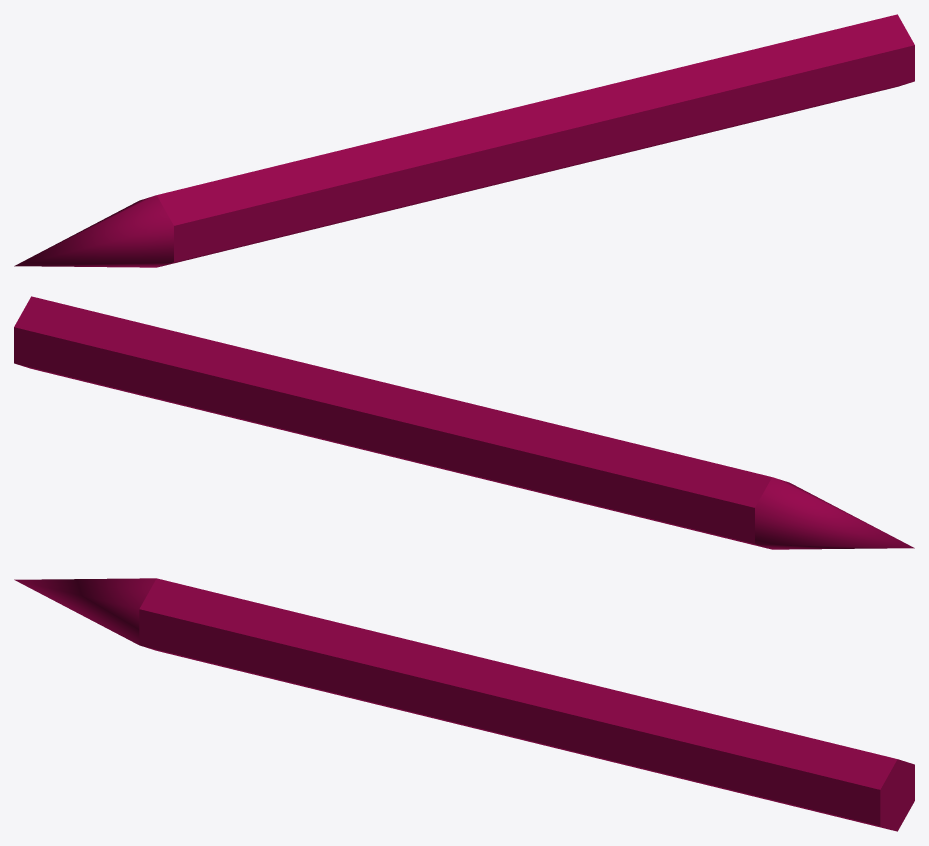
Rendered from Pen_08.fbx.
3 renders of one model, top to bottom at view 1: azimuth 30°, elevation 25°; view 2: azimuth 150°, elevation 25°; view 3: azimuth 330°, elevation 25°, orthographic.
Visible parts, largest first — view 1: Pen_08; view 2: Pen_08; view 3: Pen_08.
Part boxes in pixels (<box>): Pen_08: <box>14,14,914,267</box>; Pen_08: <box>14,296,914,549</box>; Pen_08: <box>14,578,914,831</box>.
Bounding box in the file's own units: 74.96 × 5.88 × 5.09.
